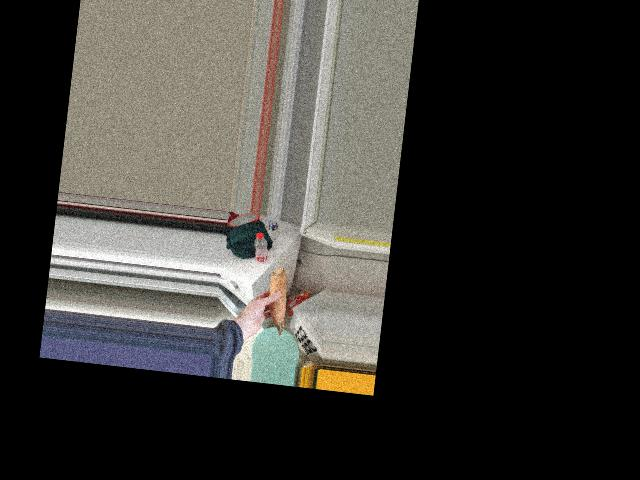sweet_potato: (262, 264, 290, 334)
